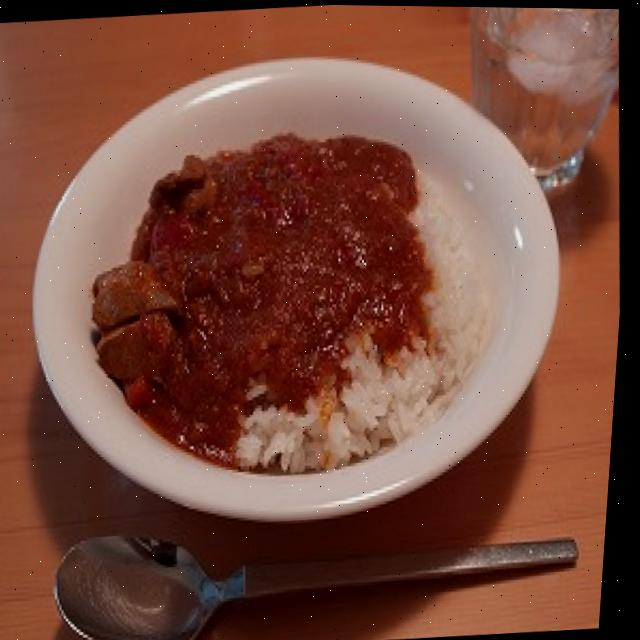牛肉菜式: (6, 26, 590, 542)
